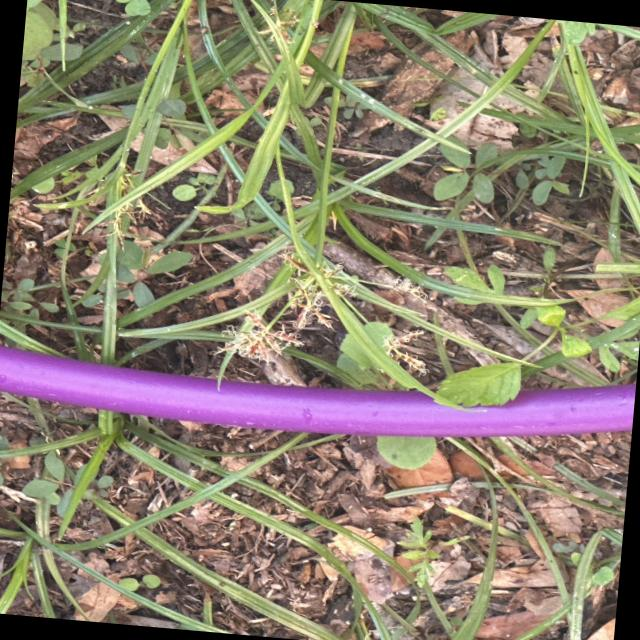cyperus: (205, 235, 450, 396)
